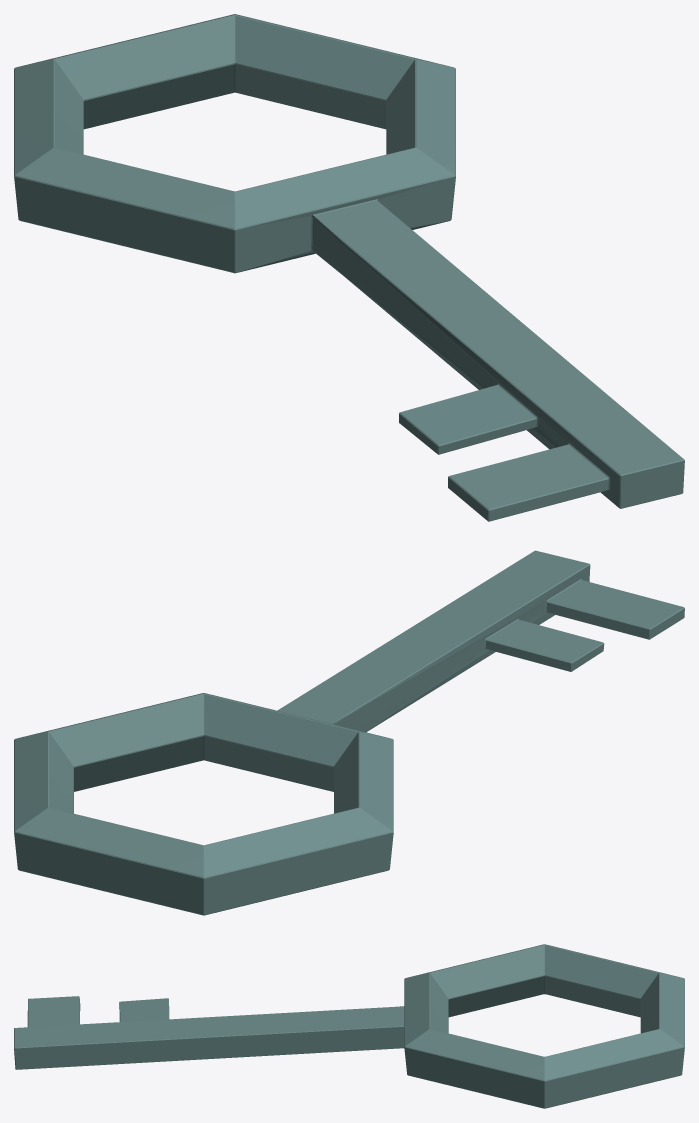
File: key_1.fbx
The picture shows the model from 3 angles, top to bottom: view 1: azimuth 30°, elevation 25°; view 2: azimuth 150°, elevation 25°; view 3: azimuth 270°, elevation 25°; orthographic projection. The views are drawn at different scales.
Parts seen in each view (by area): view 1: pasted__pTorus1; view 2: pasted__pTorus1; view 3: pasted__pTorus1.
Part boxes in pixels (bbox=[...]): pasted__pTorus1: bbox=[14, 14, 684, 521]; pasted__pTorus1: bbox=[14, 550, 684, 915]; pasted__pTorus1: bbox=[14, 944, 684, 1108].
Size of the model in its own units: 44.49 by 9 by 92.26.
